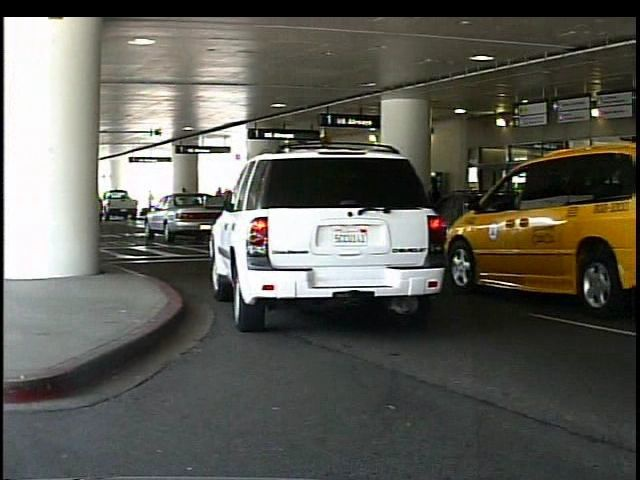person: (539, 172, 568, 261)
